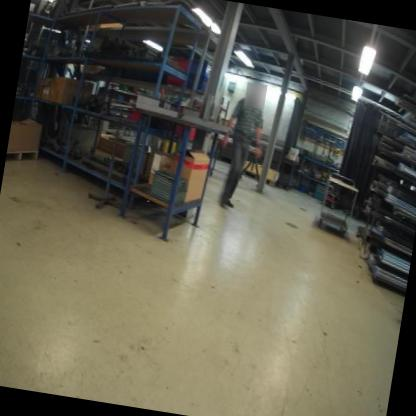pallet: (4, 144, 40, 169), (240, 168, 279, 188)
small_load_carrier: (188, 56, 215, 78), (184, 76, 209, 93)
